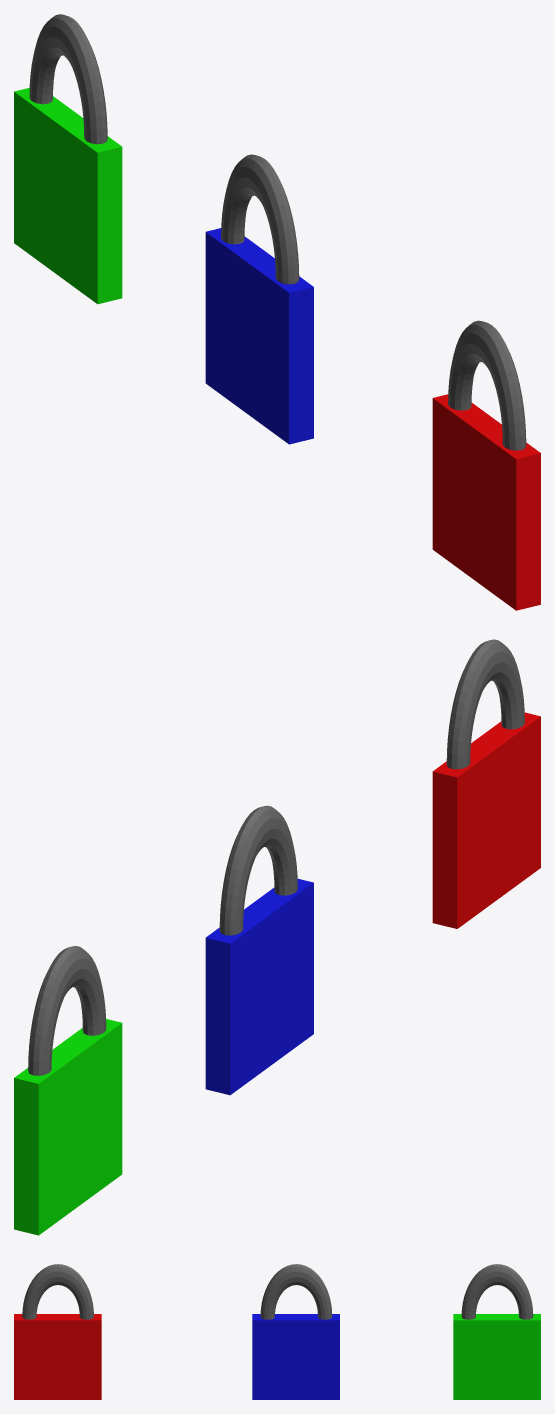
The model's file is Padlock.fbx.
3 renders of one model, top to bottom at view 1: azimuth 30°, elevation 25°; view 2: azimuth 150°, elevation 25°; view 3: azimuth 270°, elevation 25°, orthographic. The views are drawn at different scales.
Visible parts, largest first — view 1: PadlockBase, PadlockBase.002, PadlockBase.001, Torus, Torus.002, Torus.001; view 2: PadlockBase.001, PadlockBase, PadlockBase.002, Torus.001, Torus.002, Torus; view 3: PadlockBase, PadlockBase.002, PadlockBase.001, Torus.001, Torus.002, Torus.
Boxes of the visible parts, box(x1,y1,x2,y2) form: PadlockBase: box(432, 394, 540, 610); PadlockBase.002: box(14, 88, 122, 304); PadlockBase.001: box(205, 228, 313, 444); Torus: box(448, 320, 526, 450); Torus.002: box(29, 14, 107, 144); Torus.001: box(221, 154, 299, 284); PadlockBase.001: box(205, 878, 313, 1095); PadlockBase: box(432, 712, 540, 928); PadlockBase.002: box(14, 1019, 122, 1235); Torus.001: box(219, 805, 297, 935); Torus.002: box(28, 946, 106, 1075); Torus: box(446, 639, 524, 769); PadlockBase: box(14, 1314, 101, 1399); PadlockBase.002: box(453, 1314, 540, 1399); PadlockBase.001: box(252, 1314, 339, 1399); Torus.001: box(260, 1264, 332, 1319); Torus.002: box(461, 1264, 533, 1319); Torus: box(22, 1264, 93, 1319).
Size of the model in its own units: 34.21 by 334 by 1201.
